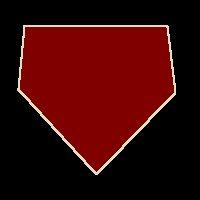tie: (18, 26, 175, 174)
